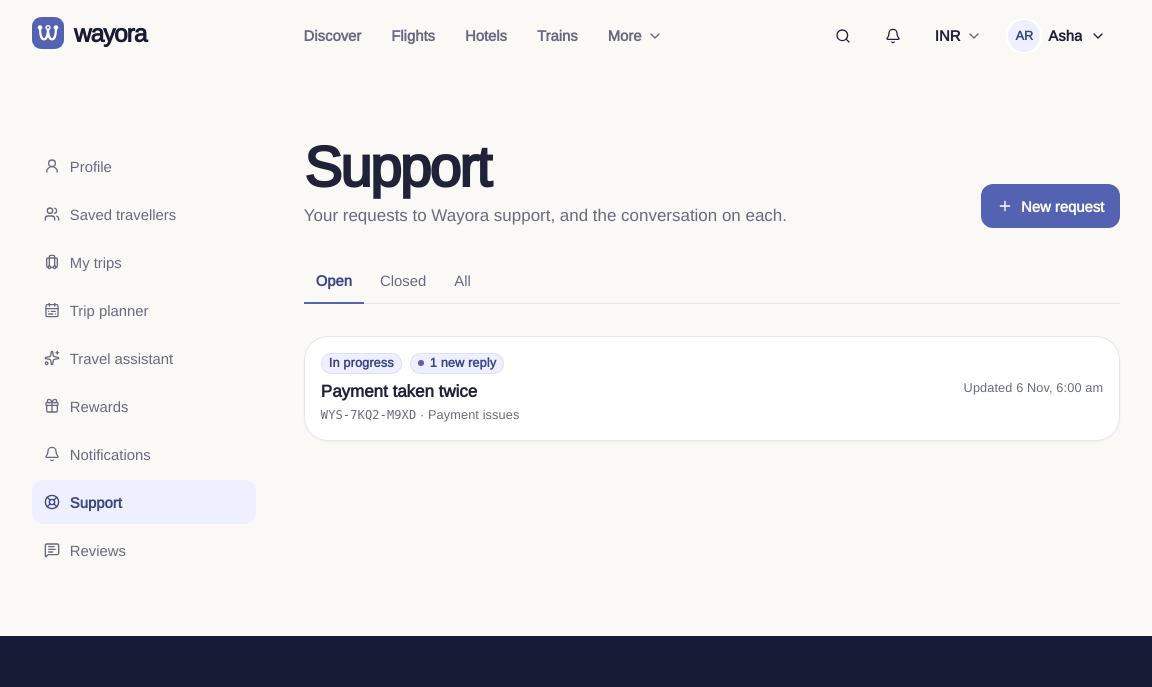
Test: customer support › lists requests, shows the conversation, marks replies read, replies and closes
Expected: the text "1 new reply" is shown, 410,353 -> 504,374
Click the link "Payment taken twice": {"x": 361, "y": 363} 304,336 -> 1120,441
(page scrolled)
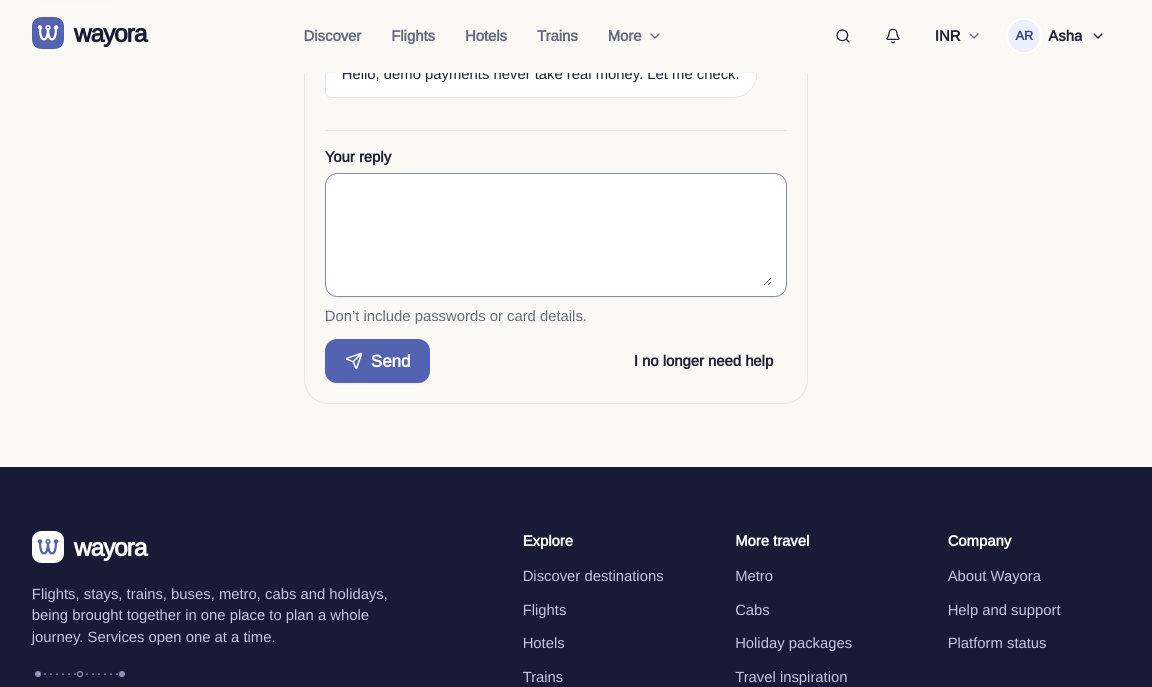
Click the button "Send": {"x": 378, "y": 361} 325,339 -> 430,383
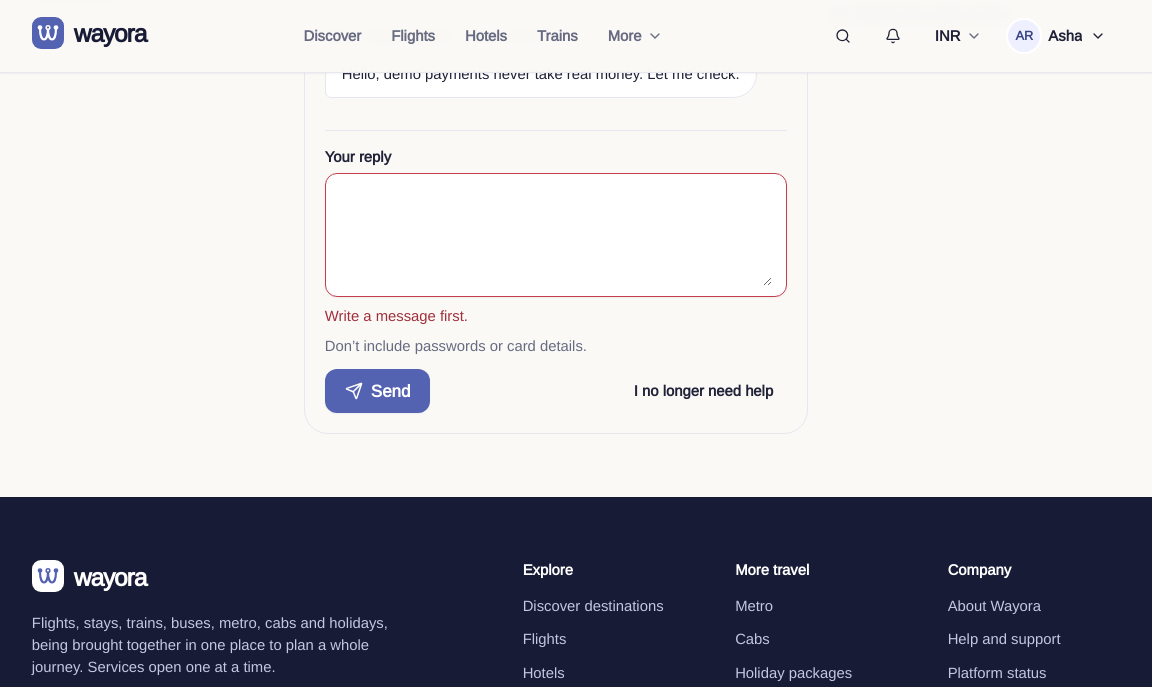
Expected: the text "Write a message first." is shown, 325,306 -> 468,324
In the text box labelled "Your reply": {"x": 556, "y": 235} 340,184 -> 772,286, type "Thanks, any update?"
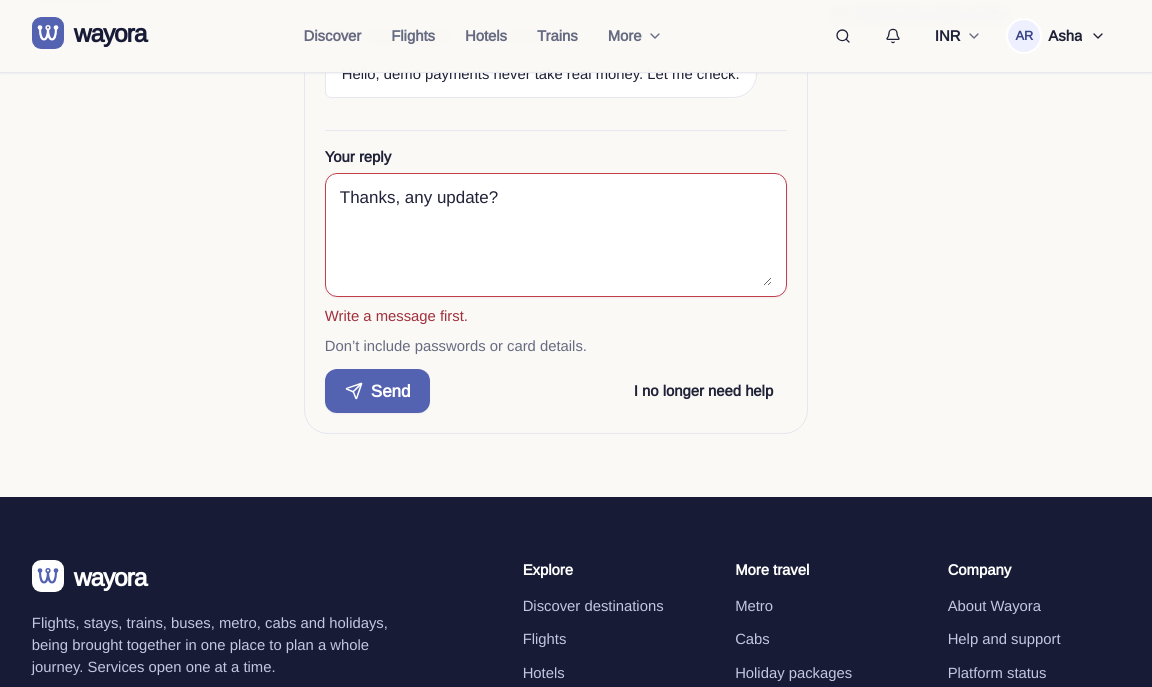
Click the button "Send": {"x": 378, "y": 391} 325,369 -> 430,413
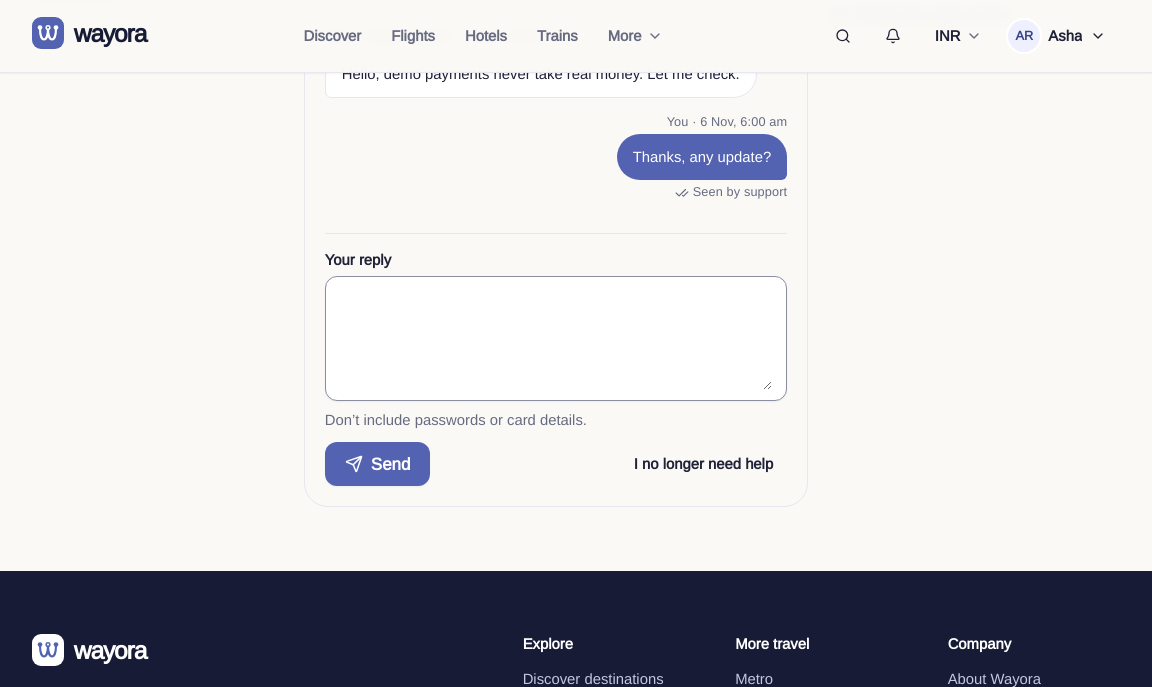
Expected: the text "Thanks, any update?" is shown, 617,134 -> 787,180
Click the button "I no longer need help": {"x": 703, "y": 464} 620,446 -> 787,482
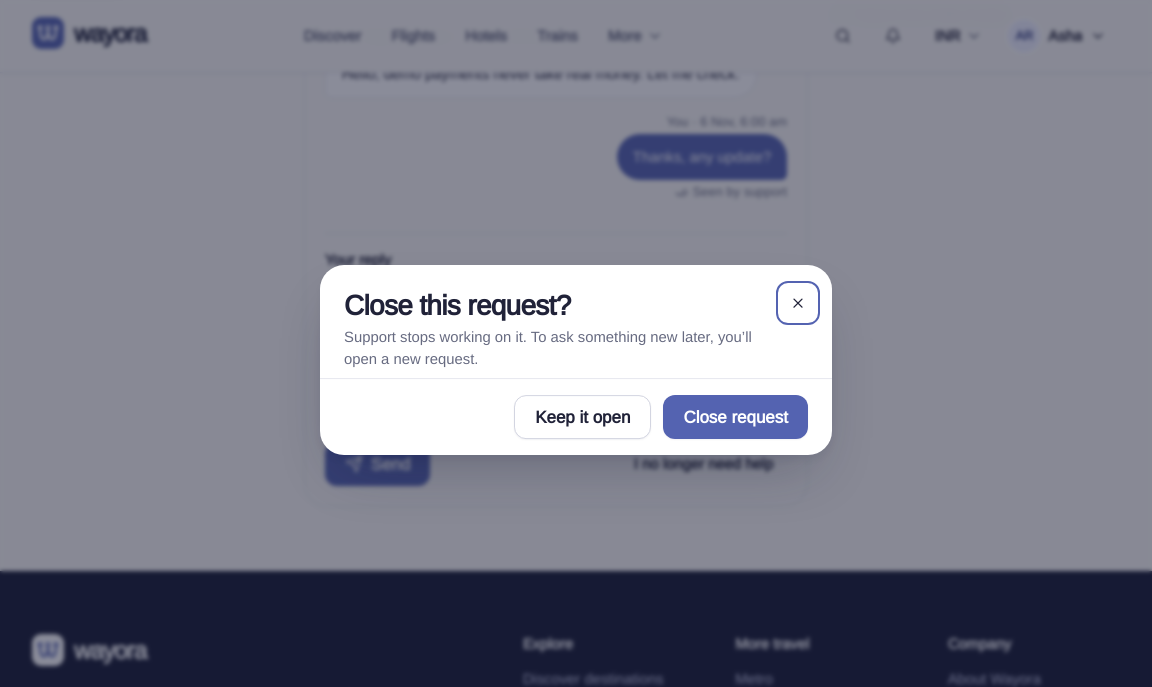
Click the button "Close request": {"x": 736, "y": 417} 663,395 -> 808,439
(page scrolled)
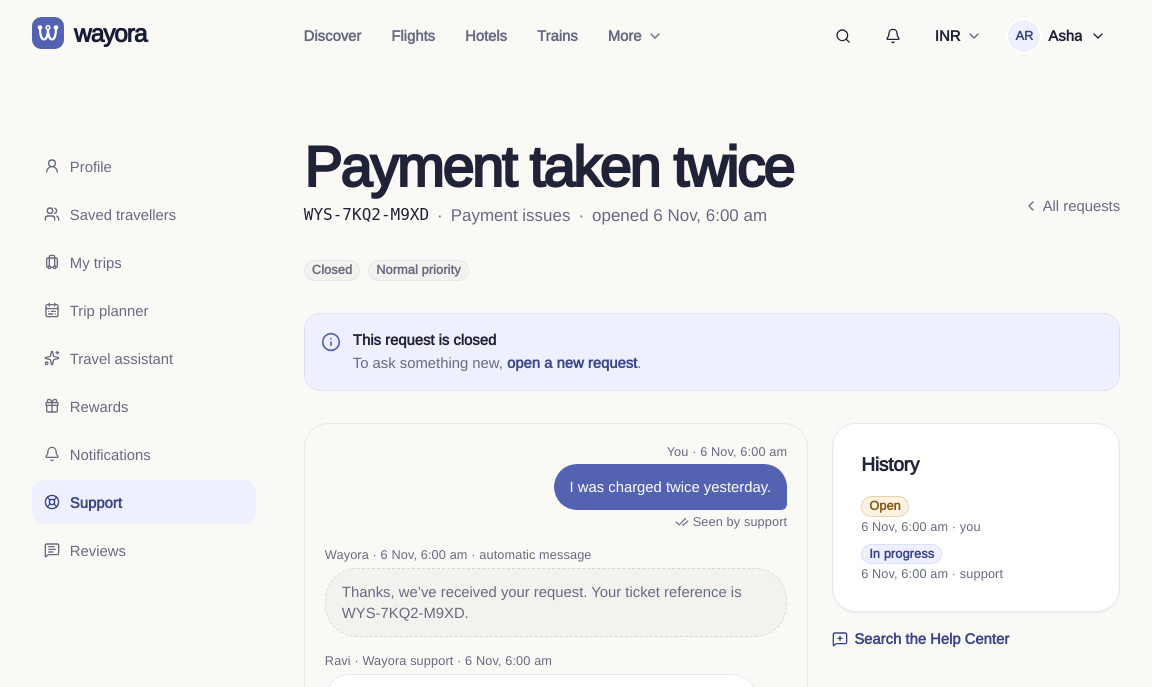
Expected: the text "This request is closed" is shown, 353,330 -> 496,348
Expected: the label "Your reply" is gone
